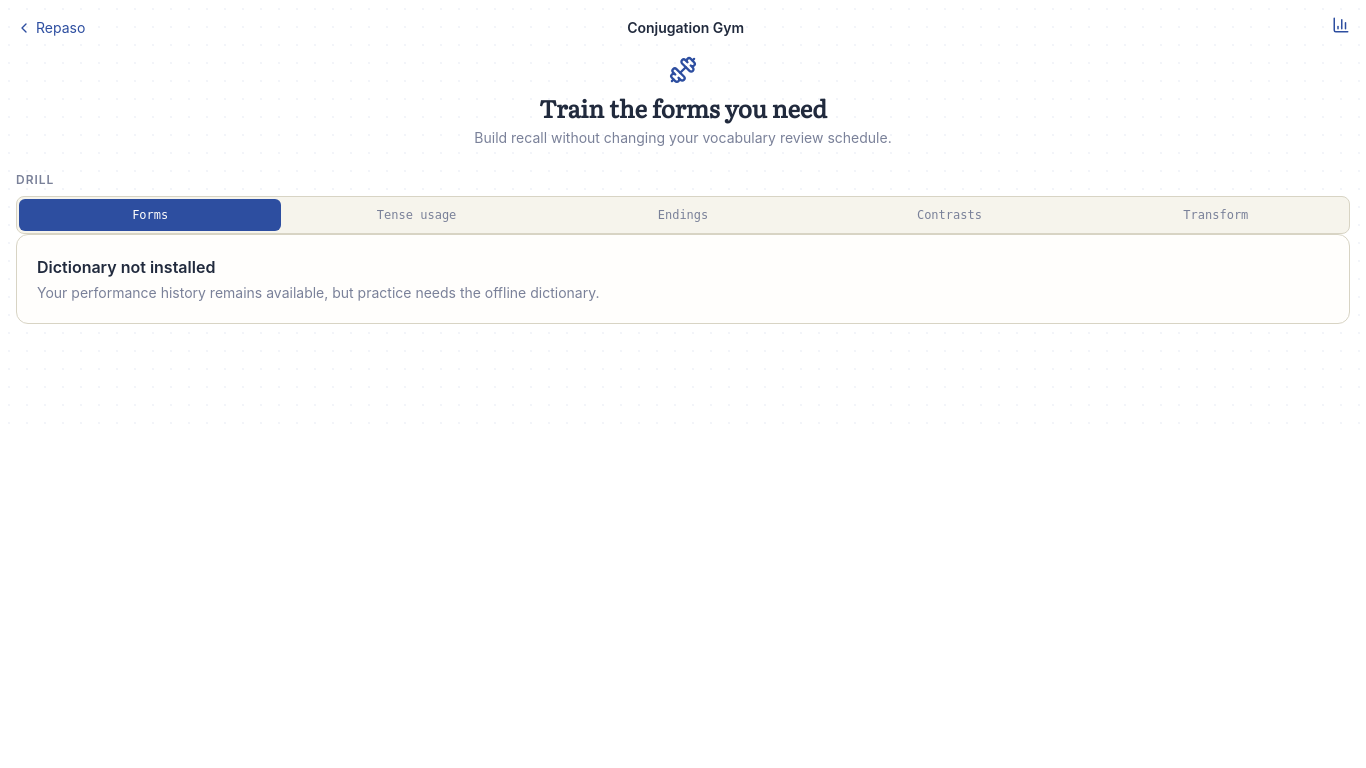
Scenario: Conjugation Gym setup › keeps performance available when the dictionary is not installed
Expected: the text "Dictionary not installed" is shown, [37,257,215,277]
What coordinates should you click on to do the following:
click the button named "View conjugation performance"
I would click on:
 (1341, 25)
Its box is [1332,16,1350,34].
(page scrolled)
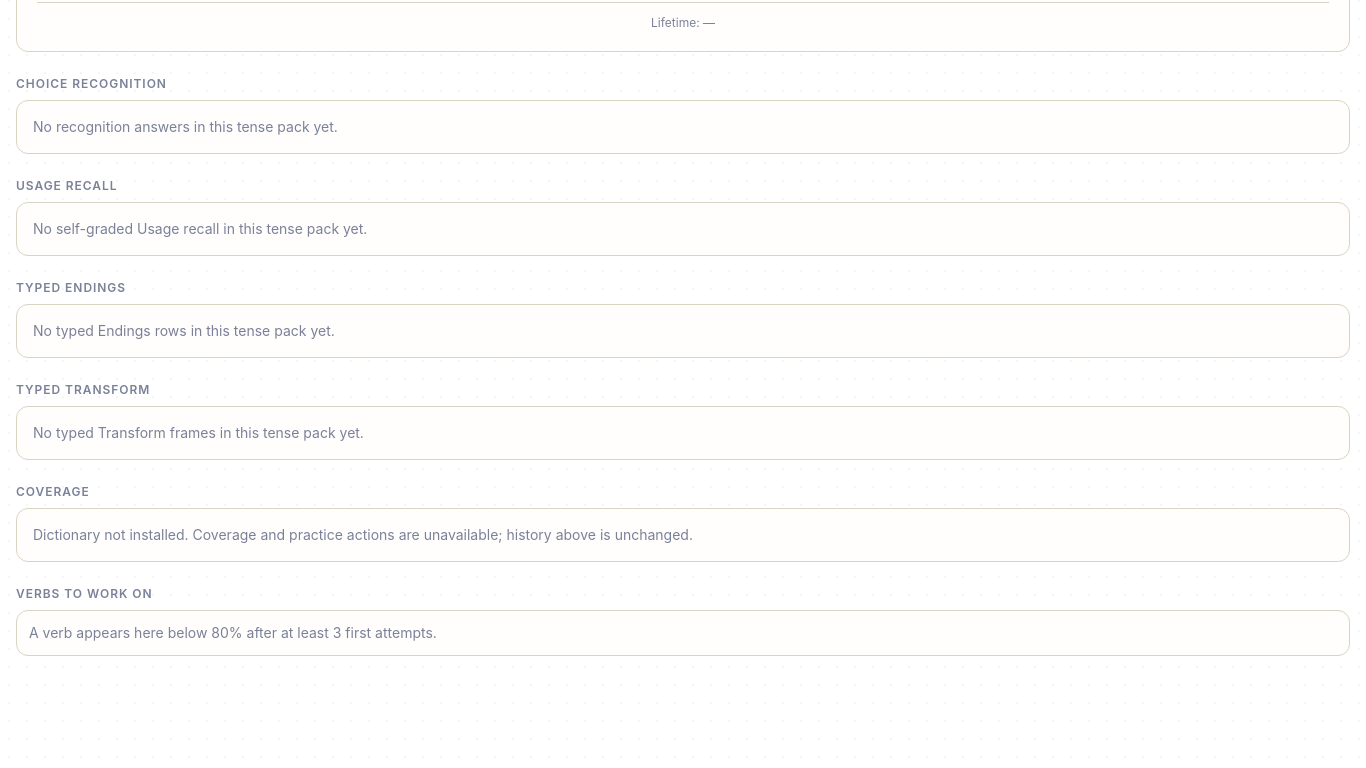
Now the text "Coverage and practice actions are unavailable" is shown, box [33,526,693,543]
